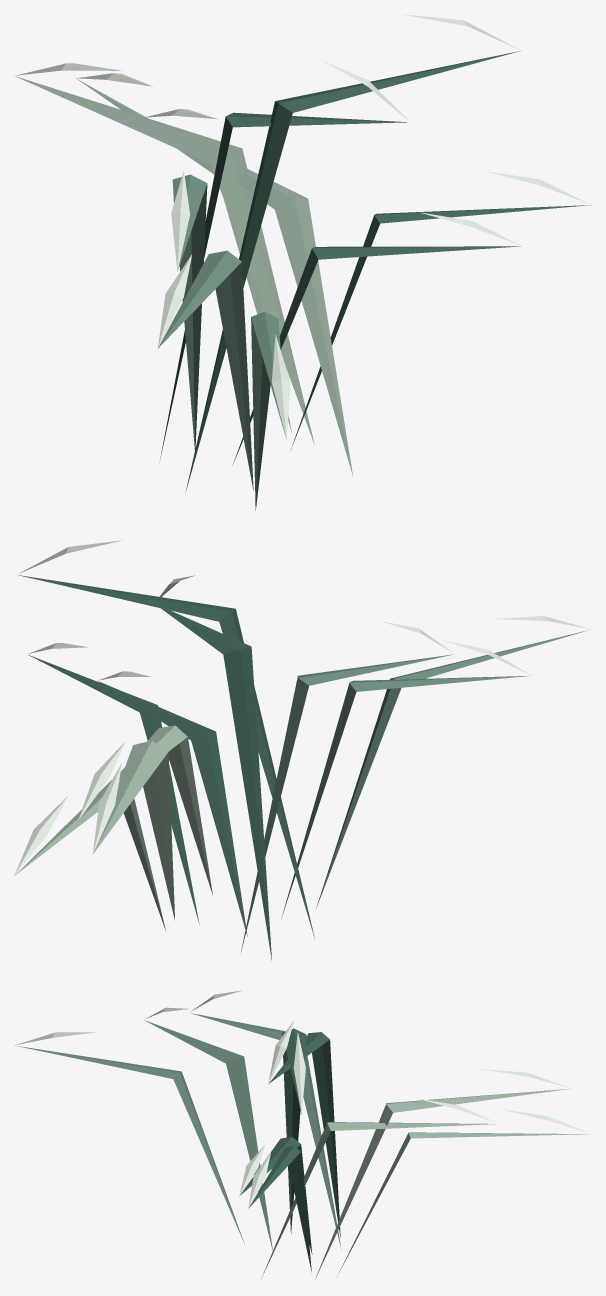
Rendered from FROST_GRASS.shadow.glb.
The picture shows the model from 3 angles, top to bottom: view 1: azimuth 30°, elevation 25°; view 2: azimuth 150°, elevation 25°; view 3: azimuth 270°, elevation 25°; orthographic projection. The views are drawn at different scales.
Parts seen in each view (by area): view 1: FROST_GRASS; view 2: FROST_GRASS; view 3: FROST_GRASS.
Part boxes in pixels (x1,y1,x2,y2): FROST_GRASS: (15,14,590,510); FROST_GRASS: (14,540,591,960); FROST_GRASS: (15,990,590,1279).
Size of the model in its own units: 0.4051 by 0.3176 by 0.6084.
Materials: 1 (1 with a texture image).
